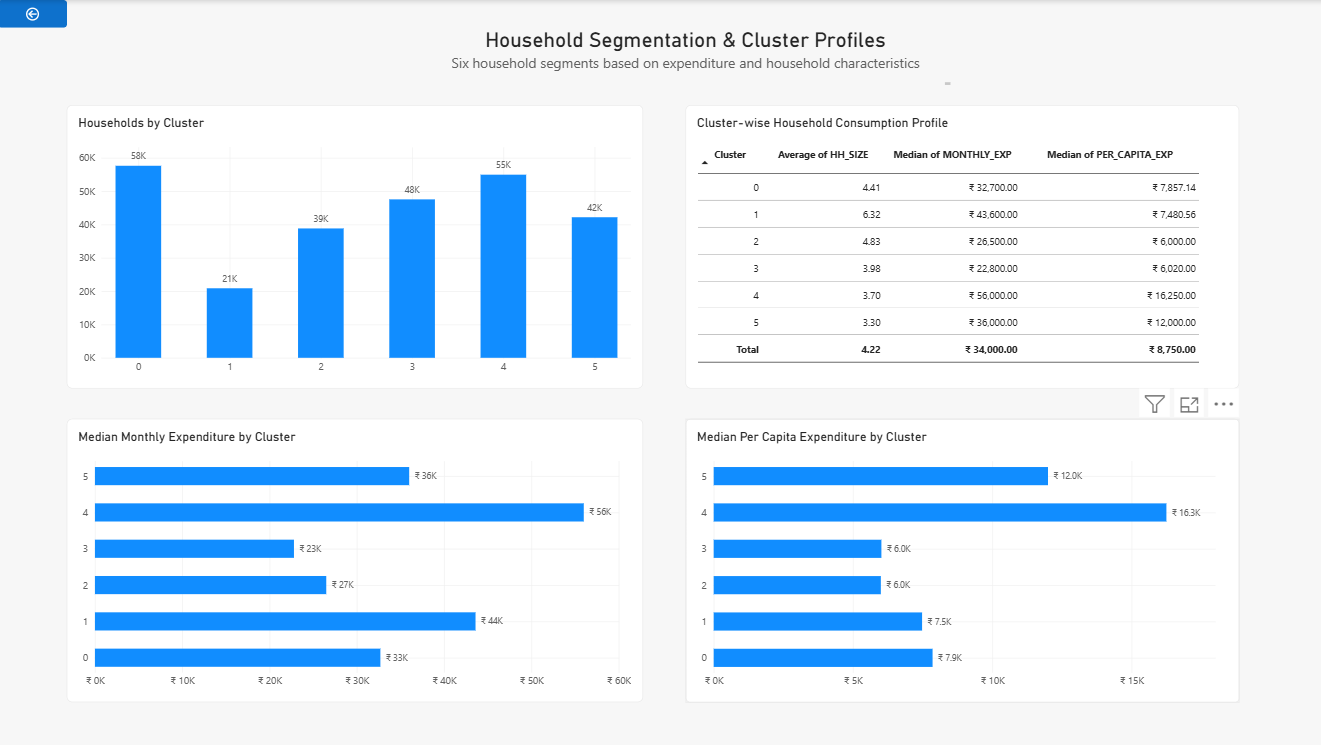

The page's visual inventory and layout, read from the dashboard file:
{"tool":"powerbi","page":{"name":"Page 2","canvas":[1920,1080],"ordinal":1},"visuals":[{"type":"textbox","title":"Household Segmentation & Cluster Profiles","box":[611.7,39.8,767.3,83.2],"z":0},{"type":"clusteredColumnChart","title":"Households by Cluster","fields":{"Category":["hces_visit_adjusted_household_table csv.Cluster"],"Y":["Count(hces_visit_adjusted_household_table csv.HH_ID)"]},"box":[99.5,152,834.3,410.8],"z":1},{"type":"tableEx","title":"Cluster-wise Household Consumption Profile","fields":{"Values":["hces_visit_adjusted_household_table csv.Cluster","Avg(hces_visit_adjusted_household_table csv.HH_SIZE)","Median(hces_visit_adjusted_household_table csv.MONTHLY_EXP)","Median(hces_visit_adjusted_household_table csv.PER_CAPITA_EXP)"]},"box":[995.3,152,801.7,410.8],"z":2},{"type":"actionButton","box":[0,0,100,40],"z":3},{"type":"clusteredBarChart","title":"Median Monthly Expenditure by Cluster","fields":{"Category":["hces_visit_adjusted_household_table csv.Cluster"],"Y":["Median(hces_visit_adjusted_household_table csv.MONTHLY_EXP)"]},"box":[99.5,606.2,834.3,410.8],"z":4},{"type":"clusteredBarChart","title":"Median Per Capita Expenditure by Cluster","fields":{"Category":["hces_visit_adjusted_household_table csv.Cluster"],"Y":["Median(hces_visit_adjusted_household_table csv.PER_CAPITA_EXP)"]},"box":[995,606,802,411],"z":5}]}

Visuals, with their boxes in screenshot pixels (x1, y1, x2, y2), scaled from the page's 1920x1080 canvas onto the 1321x745 screenshot:
"Household Segmentation & Cluster Profiles" textbox: {"x1": 421, "y1": 27, "x2": 949, "y2": 85}
"Households by Cluster" clusteredColumnChart: {"x1": 68, "y1": 105, "x2": 642, "y2": 388}
"Cluster-wise Household Consumption Profile" tableEx: {"x1": 685, "y1": 105, "x2": 1236, "y2": 388}
actionButton: {"x1": 0, "y1": 0, "x2": 69, "y2": 28}
"Median Monthly Expenditure by Cluster" clusteredBarChart: {"x1": 68, "y1": 418, "x2": 642, "y2": 702}
"Median Per Capita Expenditure by Cluster" clusteredBarChart: {"x1": 685, "y1": 418, "x2": 1236, "y2": 702}
